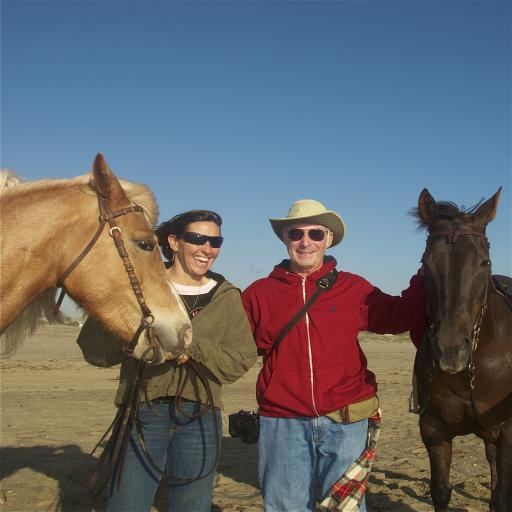horse: (0, 150, 196, 366), (404, 186, 512, 512)
